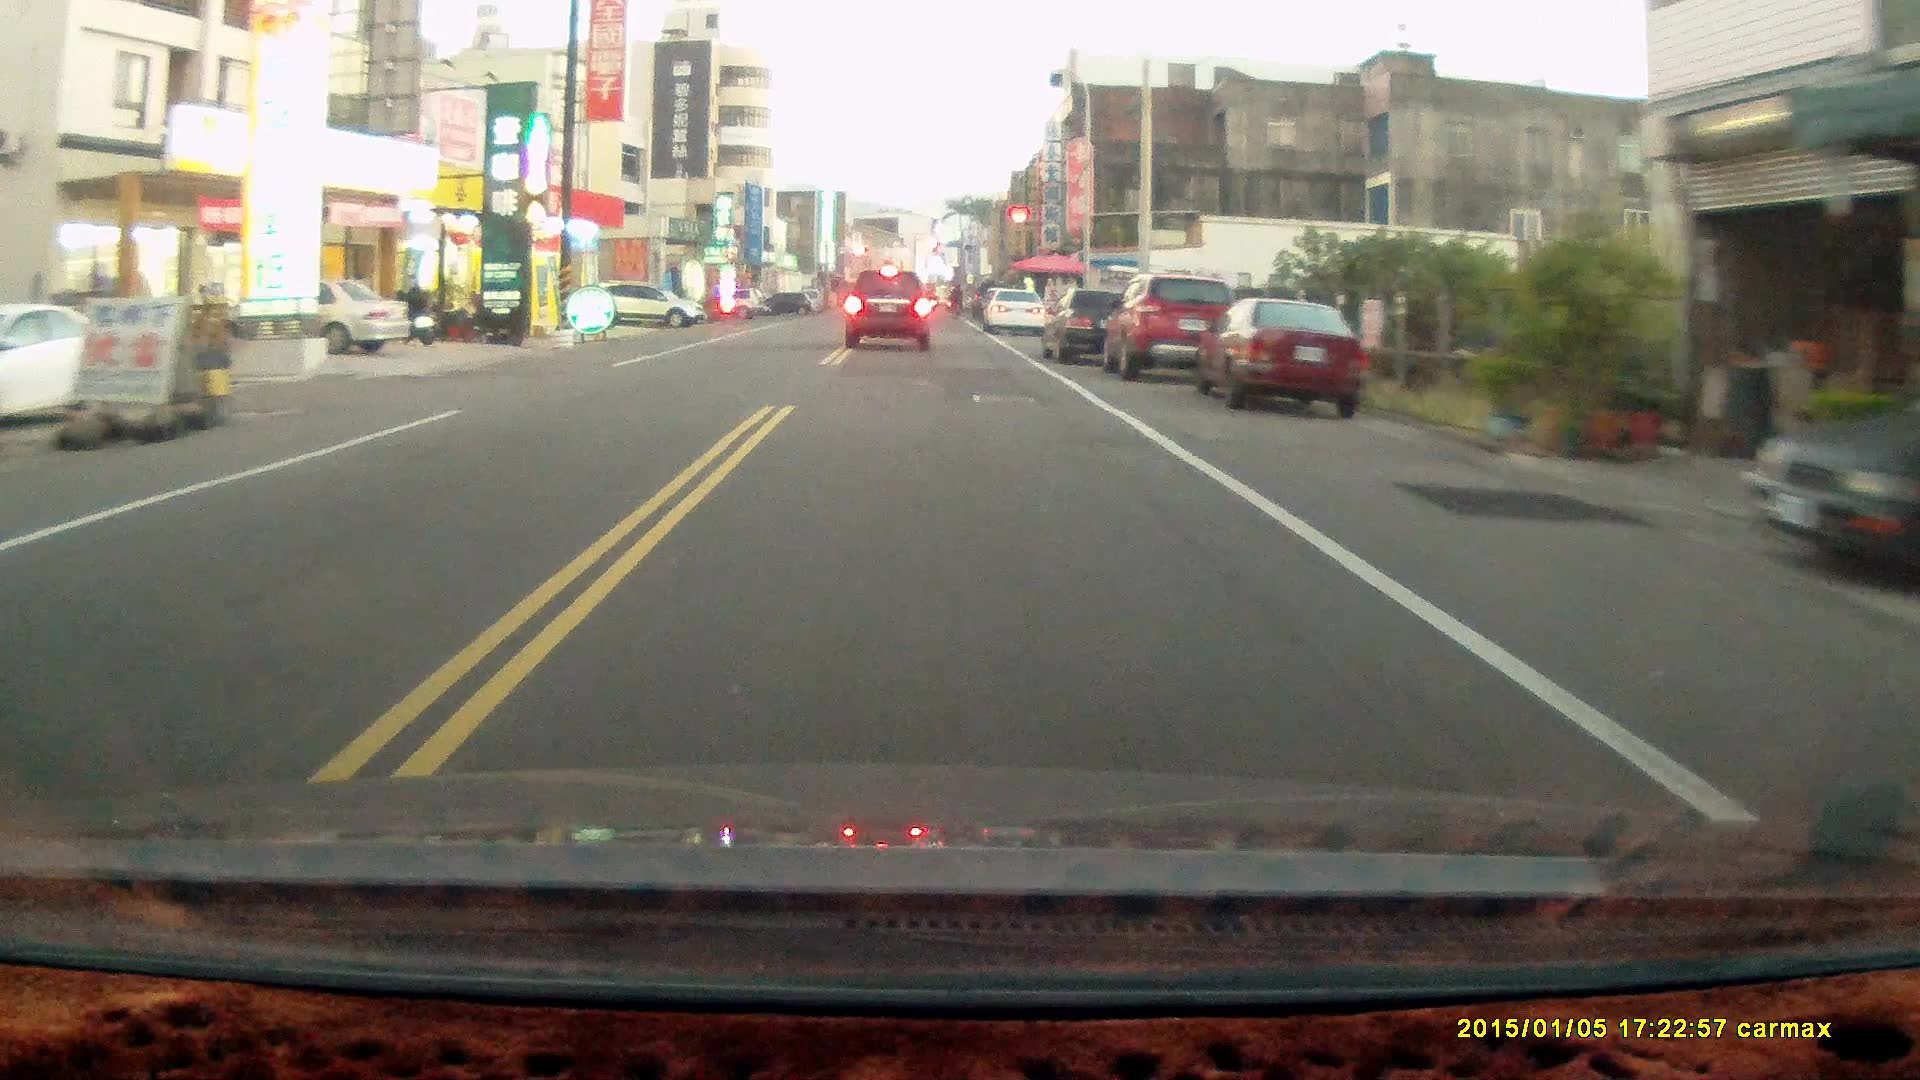vehicle: (1741, 361, 1920, 589), (1192, 299, 1374, 419), (1, 301, 138, 429), (1104, 276, 1242, 384), (225, 278, 411, 357), (1040, 291, 1156, 367), (844, 272, 934, 355), (597, 281, 702, 328), (982, 289, 1048, 339)
